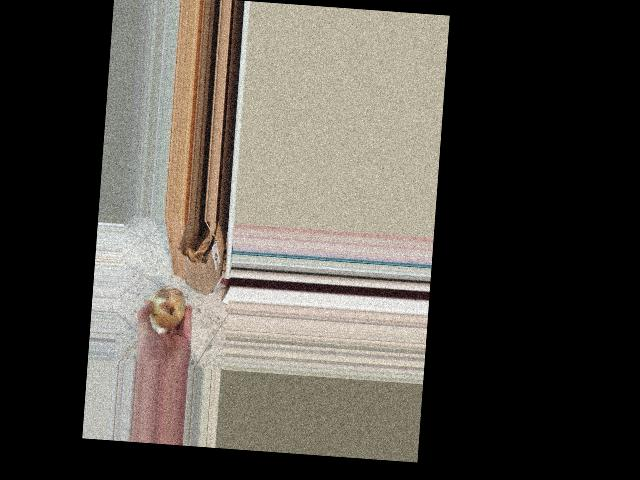onion: (143, 285, 186, 334)
